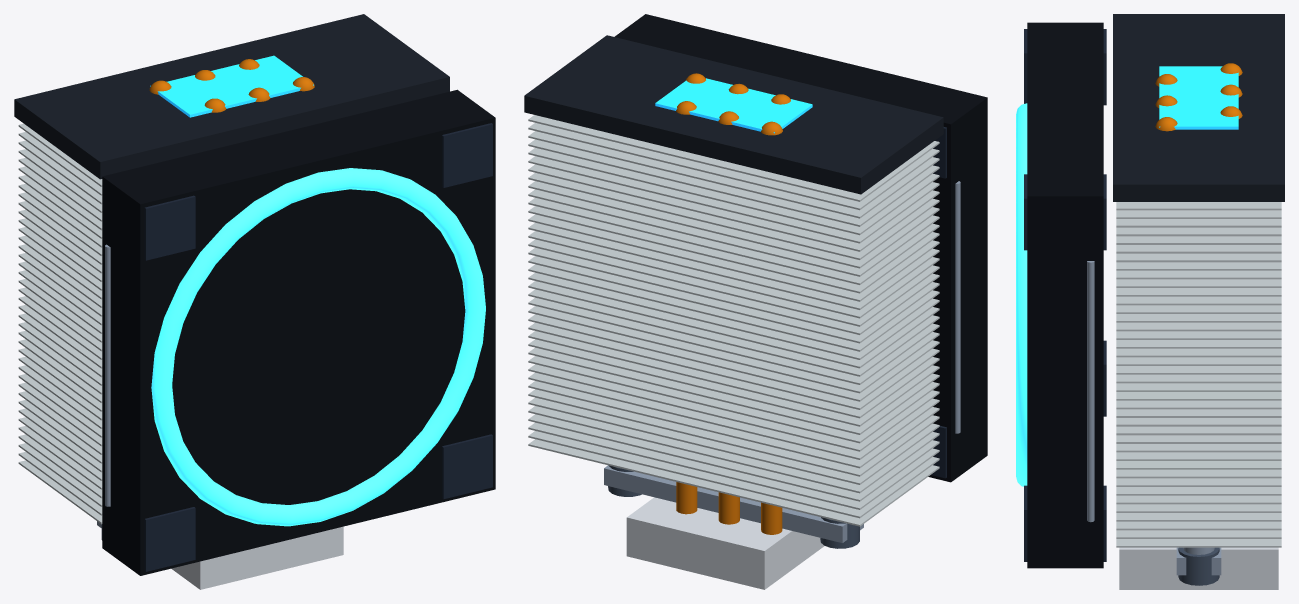
The model's file is cooling.glb.
3 views of the same model, side by side, from view 1: azimuth 30°, elevation 25°; view 2: azimuth 150°, elevation 25°; view 3: azimuth 270°, elevation 25° (orthographic). The views are drawn at different scales.
Size of the model in its own units: 0.1314 by 0.1609 by 0.0845.
